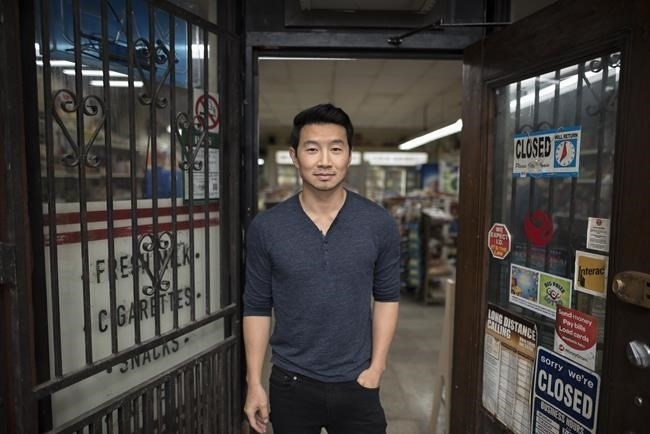face_no_mask: (290, 106, 353, 191)
